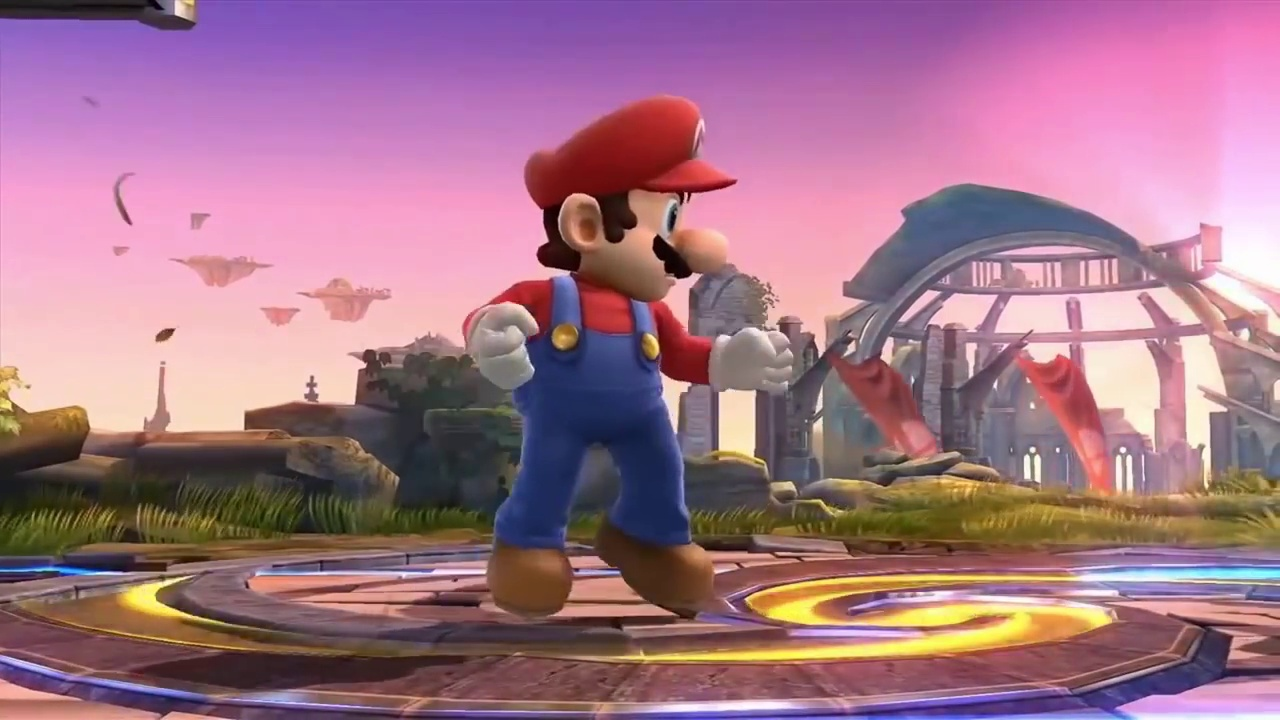Mario: (464, 95, 792, 615)
